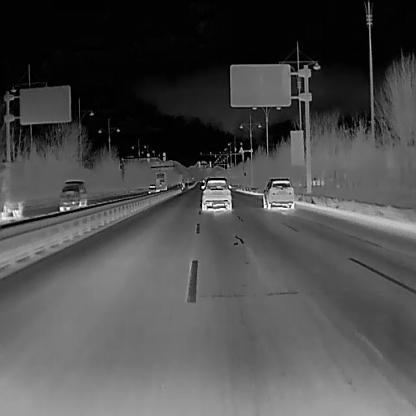car: (201, 176, 232, 212), (262, 175, 294, 209), (56, 180, 87, 214), (147, 184, 155, 194)
truck: (0, 159, 23, 219), (154, 172, 166, 190)
